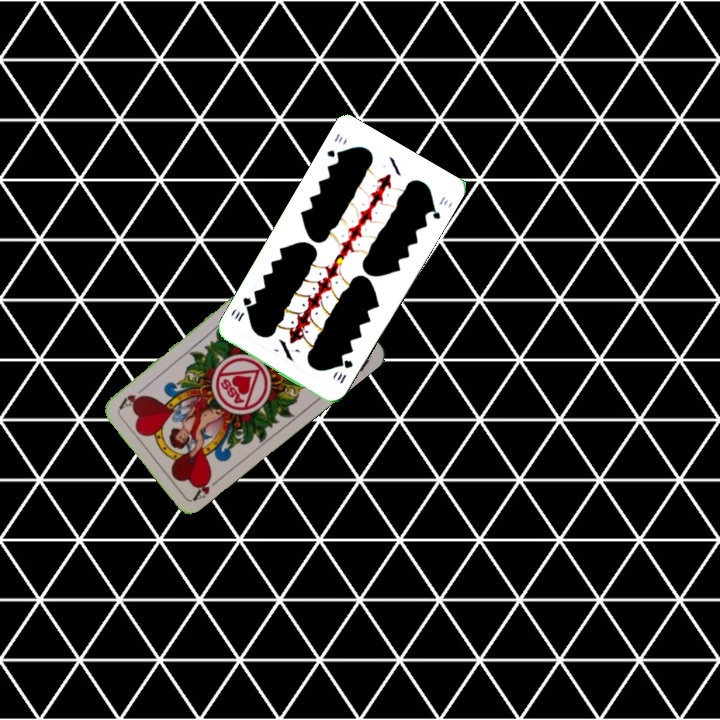G10: (332, 355, 356, 386), (323, 129, 346, 161)
HA: (190, 471, 225, 503)
